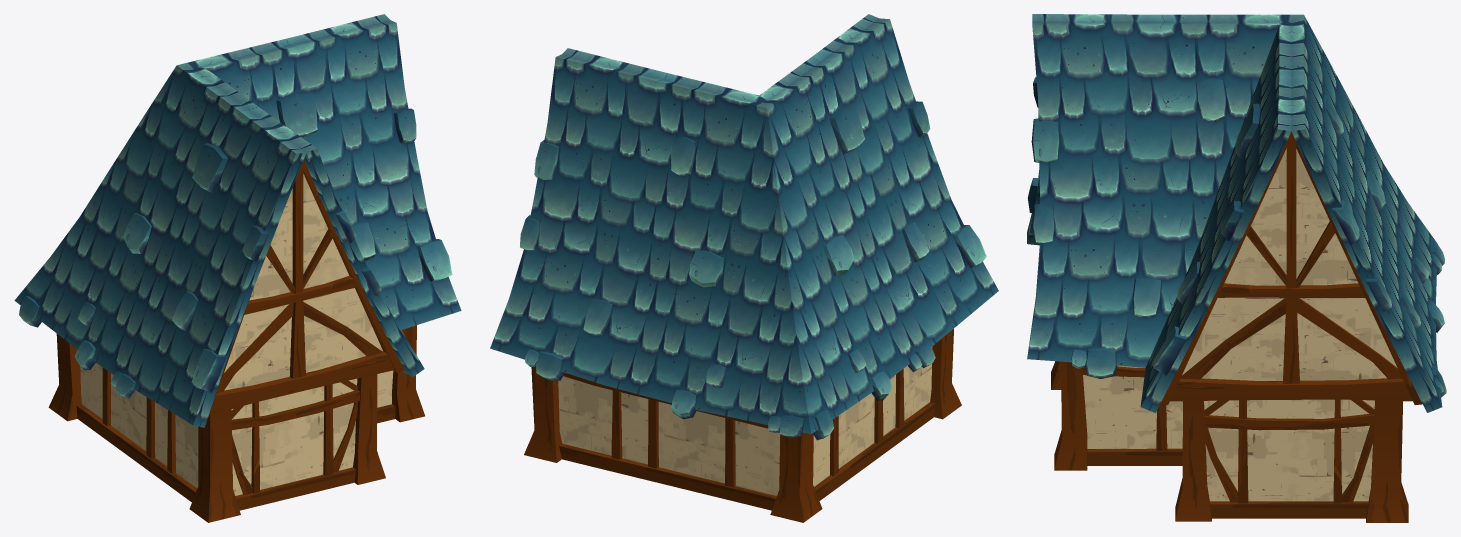
File: SM_BLD_body_v06_02.fbx
The picture shows the model from 3 angles, left to right: view 1: azimuth 30°, elevation 25°; view 2: azimuth 150°, elevation 25°; view 3: azimuth 270°, elevation 25°; orthographic projection. The views are drawn at different scales.
Visible parts, largest first — view 1: SM_BLD_body_v06_02; view 2: SM_BLD_body_v06_02; view 3: SM_BLD_body_v06_02.
Boxes of the visible parts, bbox=[...] form: SM_BLD_body_v06_02: bbox=[14, 14, 461, 522]; SM_BLD_body_v06_02: bbox=[490, 14, 998, 522]; SM_BLD_body_v06_02: bbox=[1027, 14, 1446, 522].
Size of what is drawn, in the model's own units: 1024 by 1078 by 1021.
